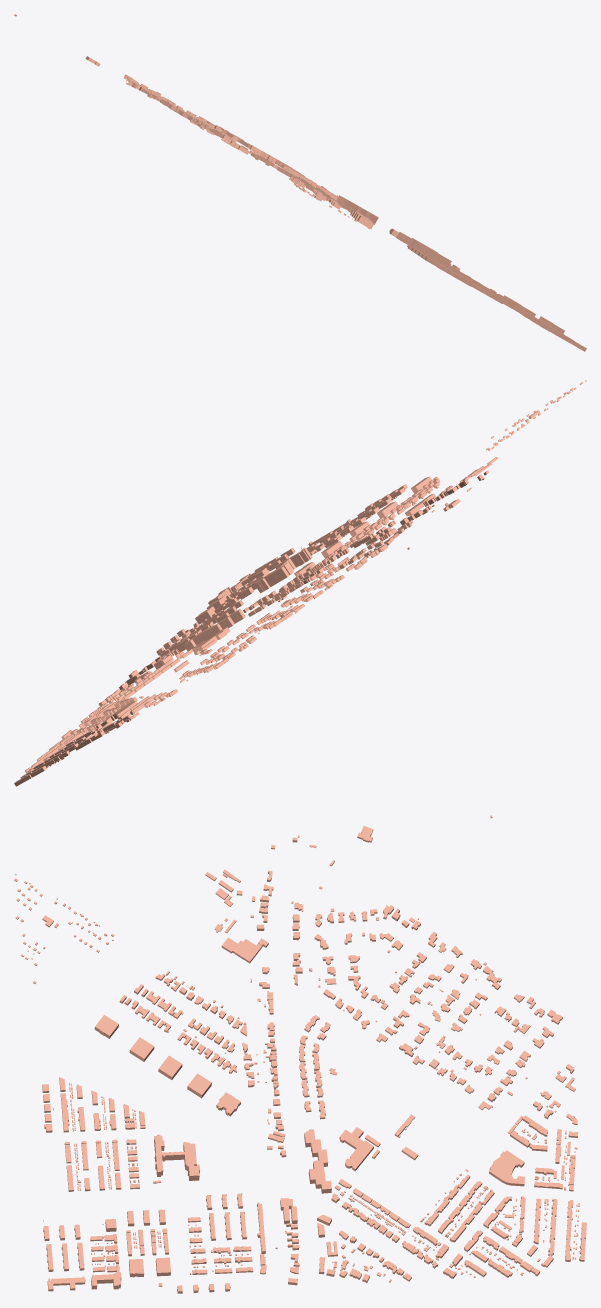
3 views of the same model, one above another, from view 1: azimuth 30°, elevation 25°; view 2: azimuth 150°, elevation 25°; view 3: azimuth 270°, elevation 25° (orthographic). The views are drawn at different scales.
Size of the model in its own units: 982 by 713 by 1262.
